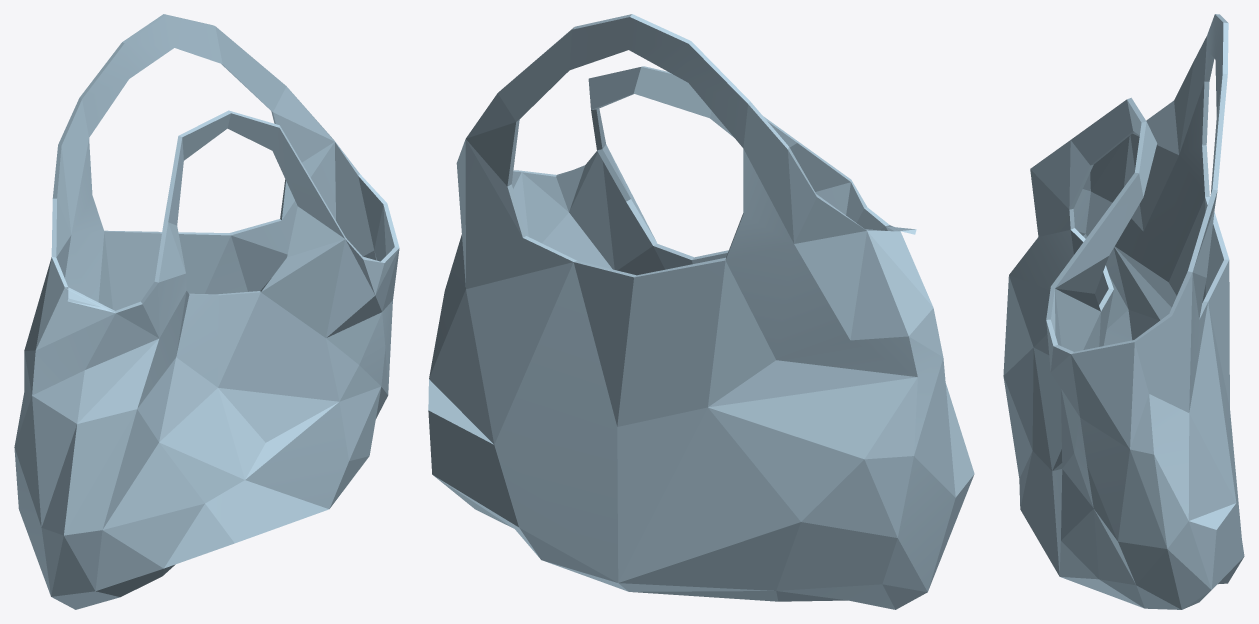
The model's file is PlasticBag.fbx.
The picture shows the model from 3 angles, left to right: view 1: azimuth 30°, elevation 25°; view 2: azimuth 150°, elevation 25°; view 3: azimuth 270°, elevation 25°; orthographic projection. The views are drawn at different scales.
Visible parts, largest first — view 1: Cube; view 2: Cube; view 3: Cube.
Boxes of the visible parts, left/top/right/bottom form: Cube: left=14, top=14, right=399, bottom=609; Cube: left=428, top=14, right=974, bottom=609; Cube: left=1003, top=14, right=1244, bottom=609.
Bounding box in the file's own units: 9.42 × 11.79 × 4.6.
